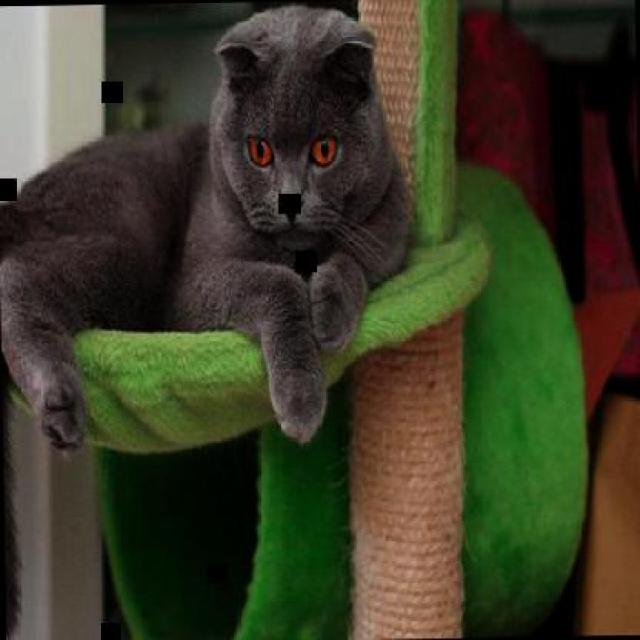cat: (0, 0, 417, 638)
